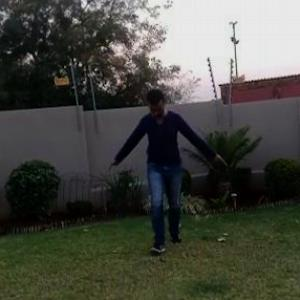land: (89, 76, 220, 272)
